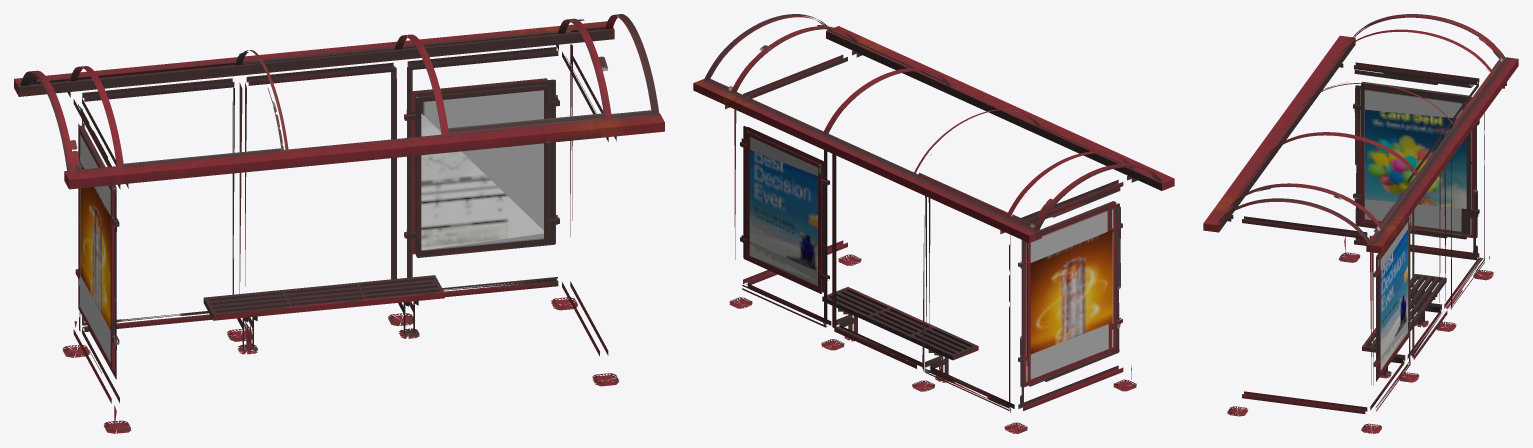
The model's file is tj_bus_stop.fbx.
The picture shows the model from 3 angles, left to right: view 1: azimuth 30°, elevation 25°; view 2: azimuth 150°, elevation 25°; view 3: azimuth 270°, elevation 25°; orthographic projection. The views are drawn at different scales.
Visible parts, largest first — view 1: tj_bus_stop_LOD0; view 2: tj_bus_stop_LOD0; view 3: tj_bus_stop_LOD0.
Part boxes in pixels (box(x1,y1,x2,y2)): tj_bus_stop_LOD0: box(14, 14, 664, 433); tj_bus_stop_LOD0: box(693, 14, 1174, 433); tj_bus_stop_LOD0: box(1203, 14, 1518, 433).
Size of what is drawn, in the model's own units: 6.26 by 3.26 by 3.95.
Materials: 2 (2 with a texture image).
